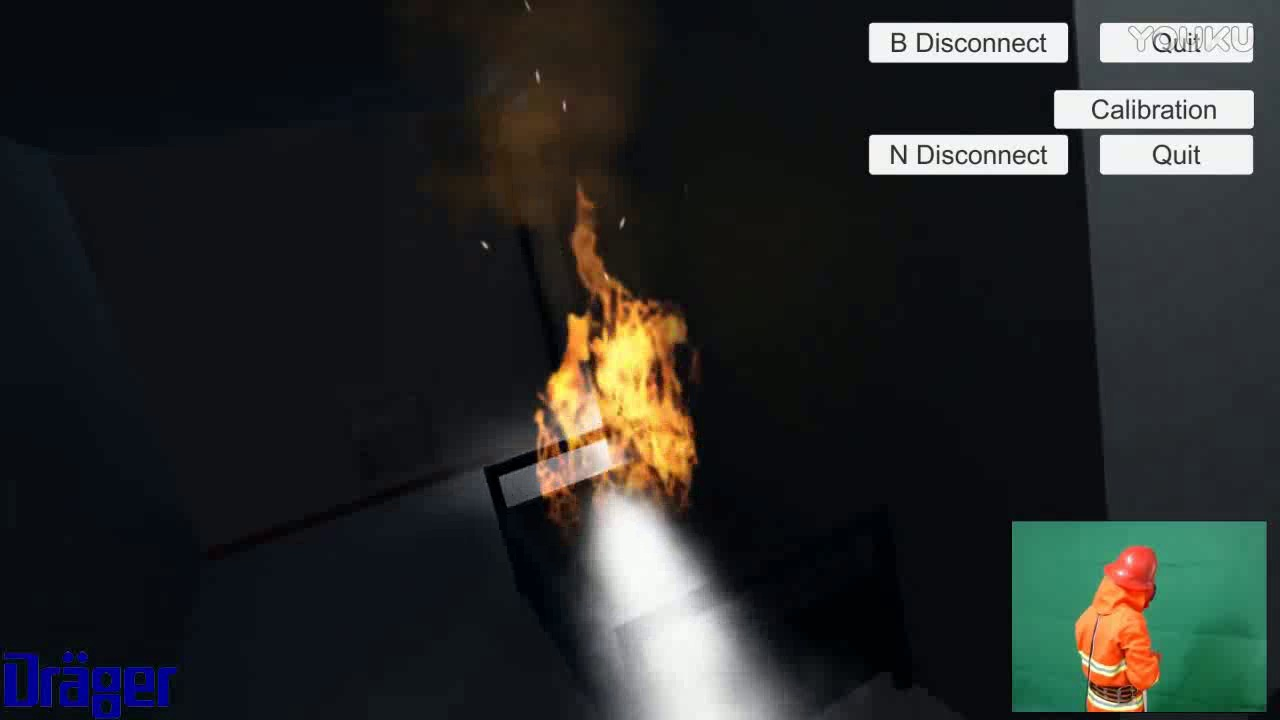fire: (514, 177, 706, 534)
